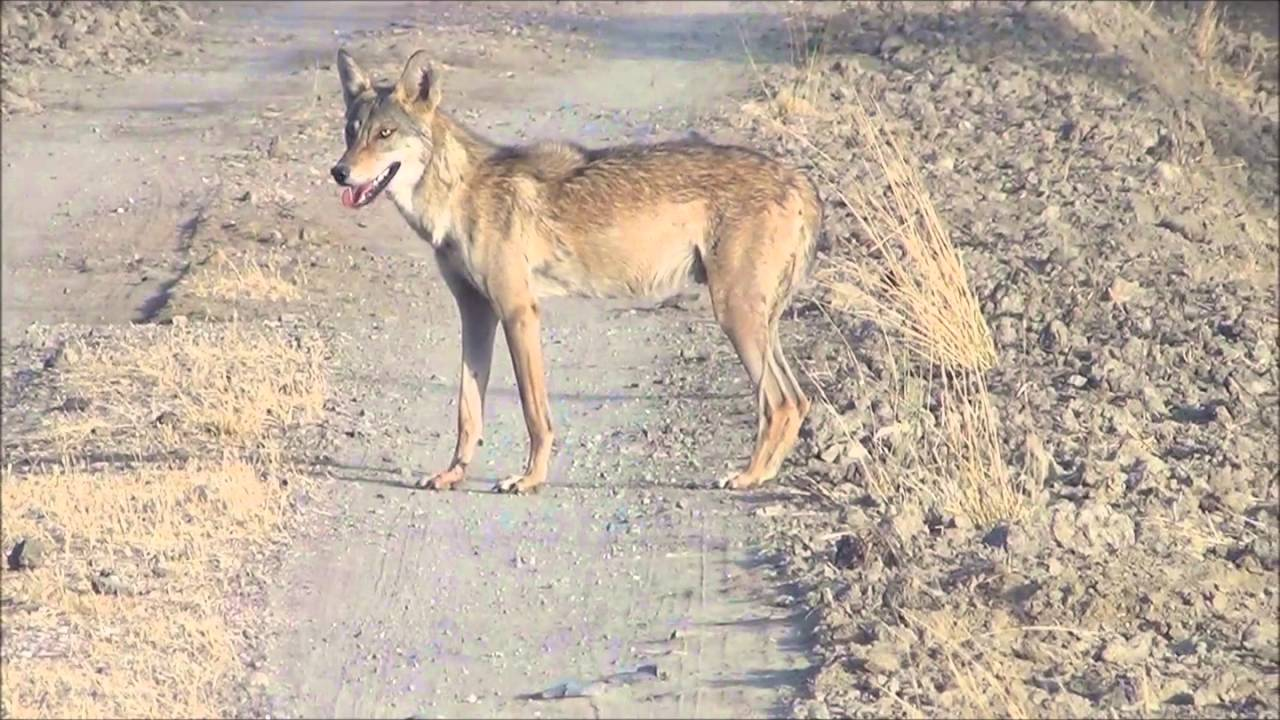wolf: (320, 52, 822, 502)
